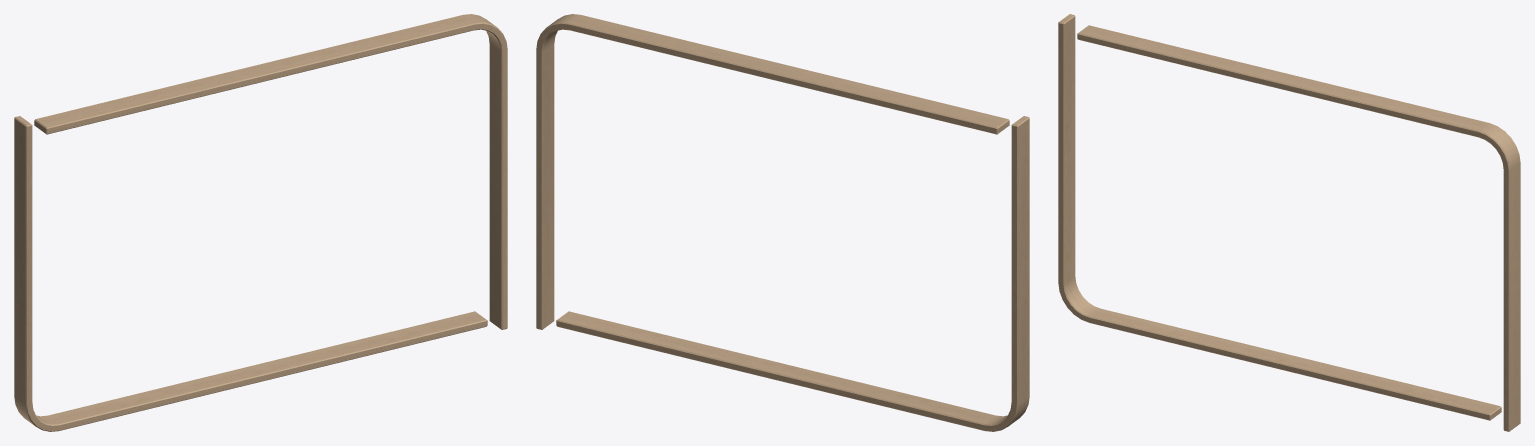
The model's file is D_VDU_002_x6_Deco.fbx.
3 renders of one model, left to right at view 1: azimuth 30°, elevation 25°; view 2: azimuth 150°, elevation 25°; view 3: azimuth 330°, elevation 25°, orthographic. The views are drawn at different scales.
Parts seen in each view (by area): view 1: D_VDU_002_x6_Deco; view 2: D_VDU_002_x6_Deco; view 3: D_VDU_002_x6_Deco.
Boxes of the visible parts, x1,y1,x2,y2 form: D_VDU_002_x6_Deco: [14, 14, 507, 431]; D_VDU_002_x6_Deco: [536, 14, 1029, 431]; D_VDU_002_x6_Deco: [1058, 14, 1520, 431].
Bounding box in the file's own units: 10.7 × 6.8 × 0.48.
